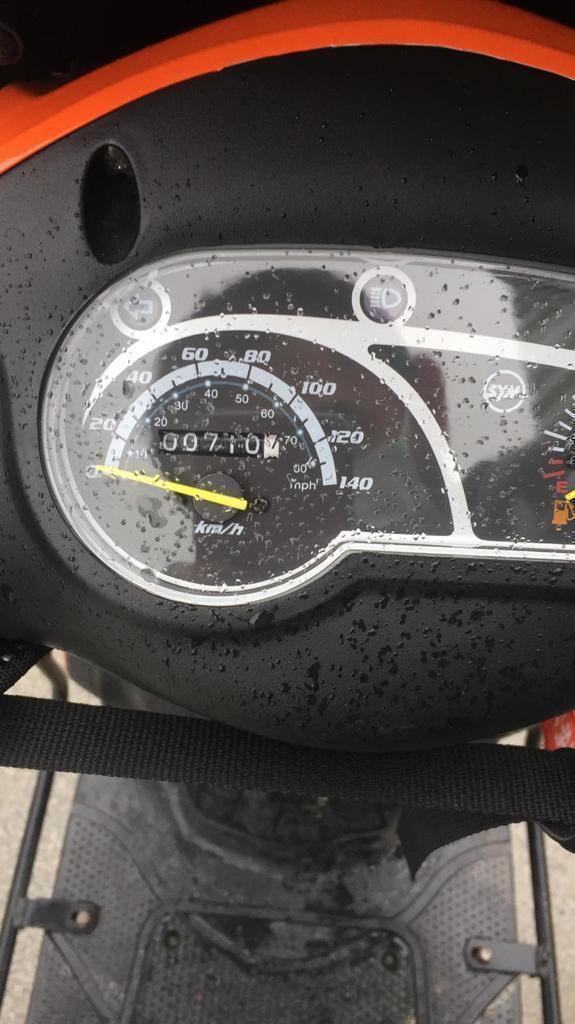0: (244, 430, 261, 458), (182, 431, 198, 454), (161, 431, 179, 451)
1: (226, 432, 238, 455)
7: (203, 429, 219, 452), (266, 431, 278, 448)
odometer: (156, 427, 282, 461)
